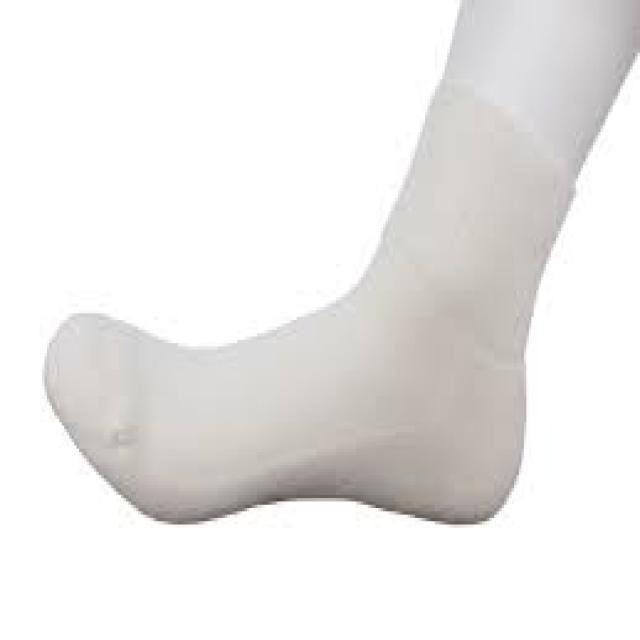sock: (42, 0, 638, 525)
